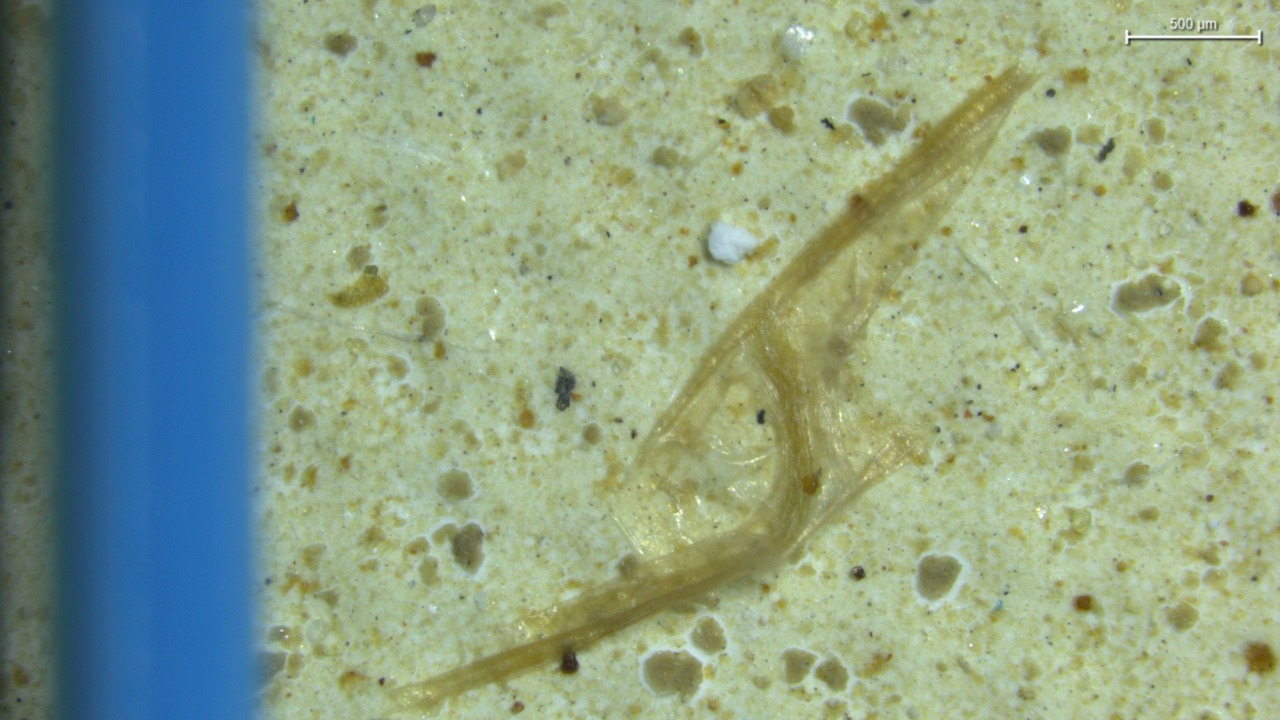microplastic_fragment: (392, 71, 1033, 710), (707, 220, 758, 265)
